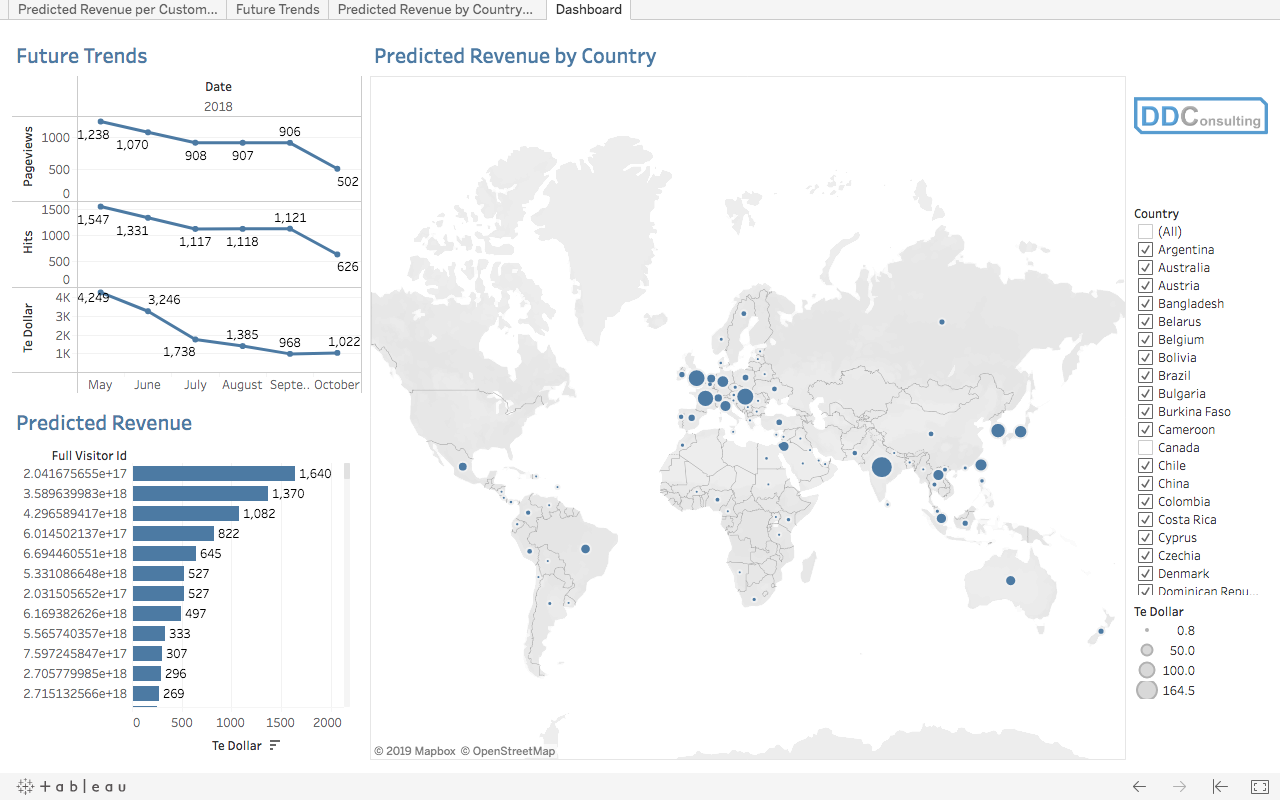

The page's visual inventory and layout, read from the dashboard file:
{"tool":"tableau","page":{"name":"Dashboard","canvas":[1000,1000],"units":"permille","ordinal":0},"visuals":[{"type":"worksheet","title":"Predicted Revenue by Country/City","mark":"Automatic","box":[7.5,12.8,539,974.4]},{"type":"filter","title":"Predicted Revenue by Country/City","param":"[federated.0akiazt1ua6n4t0zzqci21vnaja4].[none:country:nk]","box":[546.5,12.8,149.7,740.4]},{"type":"worksheet","title":"Future Trends","mark":"Line","rows":["pageviews","hits","te_dollar"],"cols":["date","date"],"box":[696.2,12.8,296.3,487.2]},{"type":"worksheet","title":"Predicted Revenue per Customer","mark":"Automatic","rows":["fullVisitorId"],"cols":["te_dollar"],"box":[696.2,500,296.3,487.2]},{"type":"legend","title":"Predicted Revenue by Country/City","param":"[federated.0akiazt1ua6n4t0zzqci21vnaja4].[sum:te_dollar:qk]","box":[546.5,753.2,149.7,234]}]}

Visuals, with their boxes on the dashboard's canvas, which has no fixed pixel size, in thousandths of its width and height (x1, y1, x2, y2). These are canvas units, not pixel positions in the 1280x800 screenshot, which may show the page scaled, cropped or inside an application window:
"Predicted Revenue by Country/City" worksheet: bbox=(8, 13, 546, 987)
"Predicted Revenue by Country/City" filter: bbox=(546, 13, 696, 753)
"Future Trends" worksheet (Line marks): bbox=(696, 13, 992, 500)
"Predicted Revenue per Customer" worksheet: bbox=(696, 500, 992, 987)
"Predicted Revenue by Country/City" legend: bbox=(546, 753, 696, 987)
